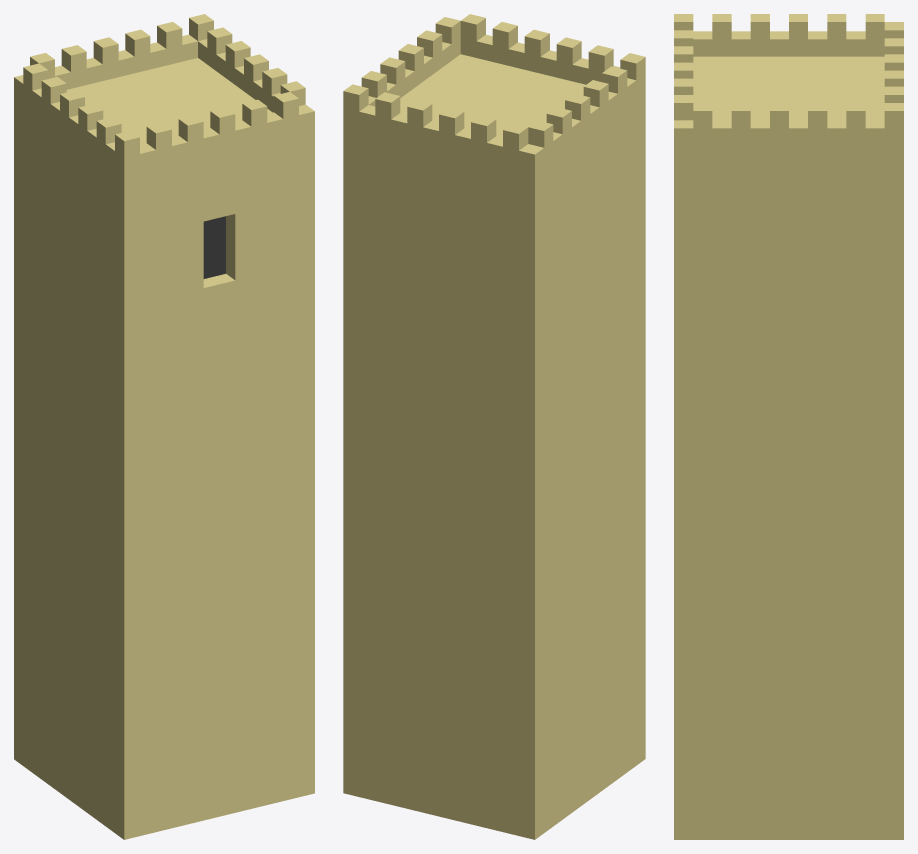
The model's file is CityTower02.fbx.
3 renders of one model, left to right at view 1: azimuth 30°, elevation 25°; view 2: azimuth 150°, elevation 25°; view 3: azimuth 270°, elevation 25°, orthographic. The views are drawn at different scales.
Parts seen in each view (by area): view 1: CityTower02_LOD0; view 2: CityTower02_LOD0; view 3: CityTower02_LOD0.
Part boxes in pixels (bbox=[...]): CityTower02_LOD0: bbox=[14, 14, 314, 839]; CityTower02_LOD0: bbox=[343, 14, 645, 839]; CityTower02_LOD0: bbox=[674, 14, 903, 839].
Size of what is drawn, in the model's own units: 600 by 2100 by 600.
